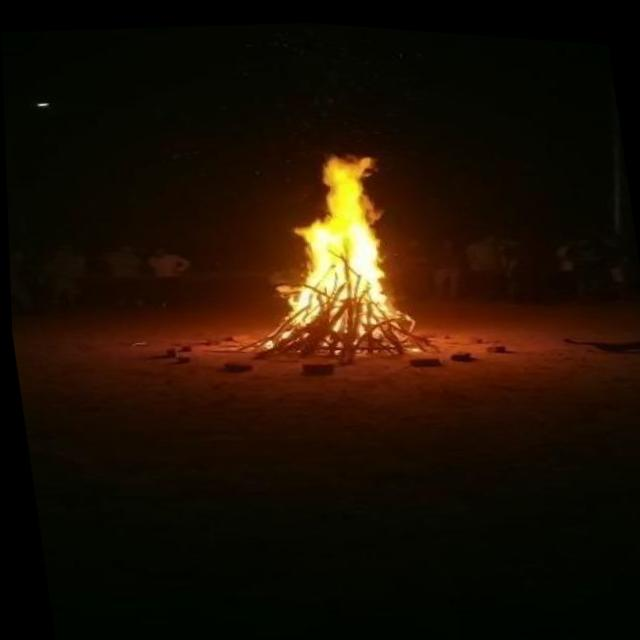fire: (241, 121, 448, 361)
